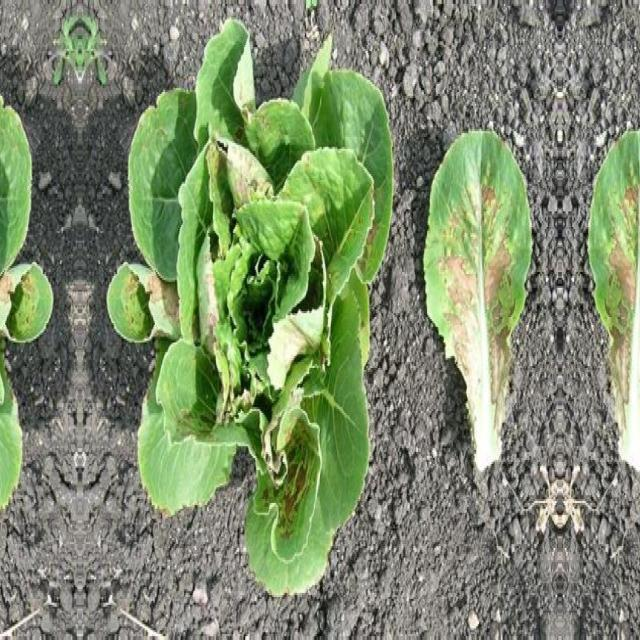healthy: (108, 16, 392, 594), (418, 124, 538, 480), (0, 16, 52, 593), (582, 124, 640, 480)
